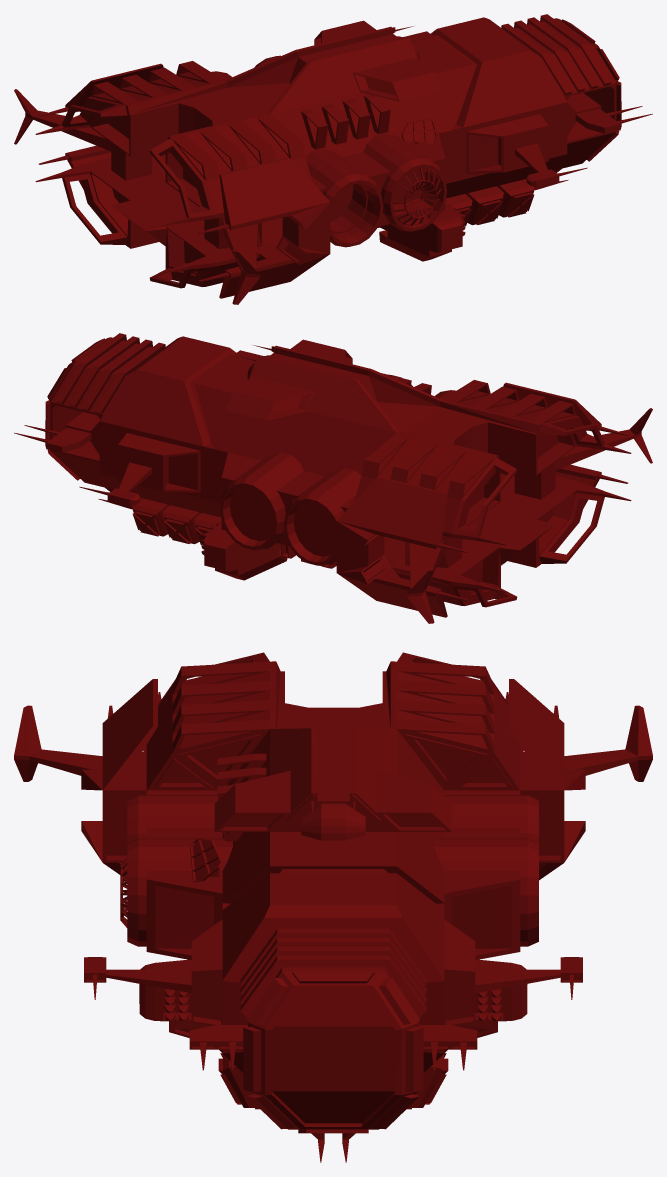
Rendered from motherShip.obj.
3 views of the same model, one above another, from view 1: azimuth 30°, elevation 25°; view 2: azimuth 150°, elevation 25°; view 3: azimuth 270°, elevation 25° (orthographic). The views are drawn at different scales.
Visible parts, largest first — view 1: ship_hull.001; view 2: ship_hull.001; view 3: ship_hull.001.
Boxes of the visible parts, x1=… form: ship_hull.001: x1=14, y1=14, x2=652, y2=304; ship_hull.001: x1=14, y1=333, x2=652, y2=623; ship_hull.001: x1=14, y1=652, x2=652, y2=1162.
Bounding box in the file's own units: 132 × 46.2 × 104.
